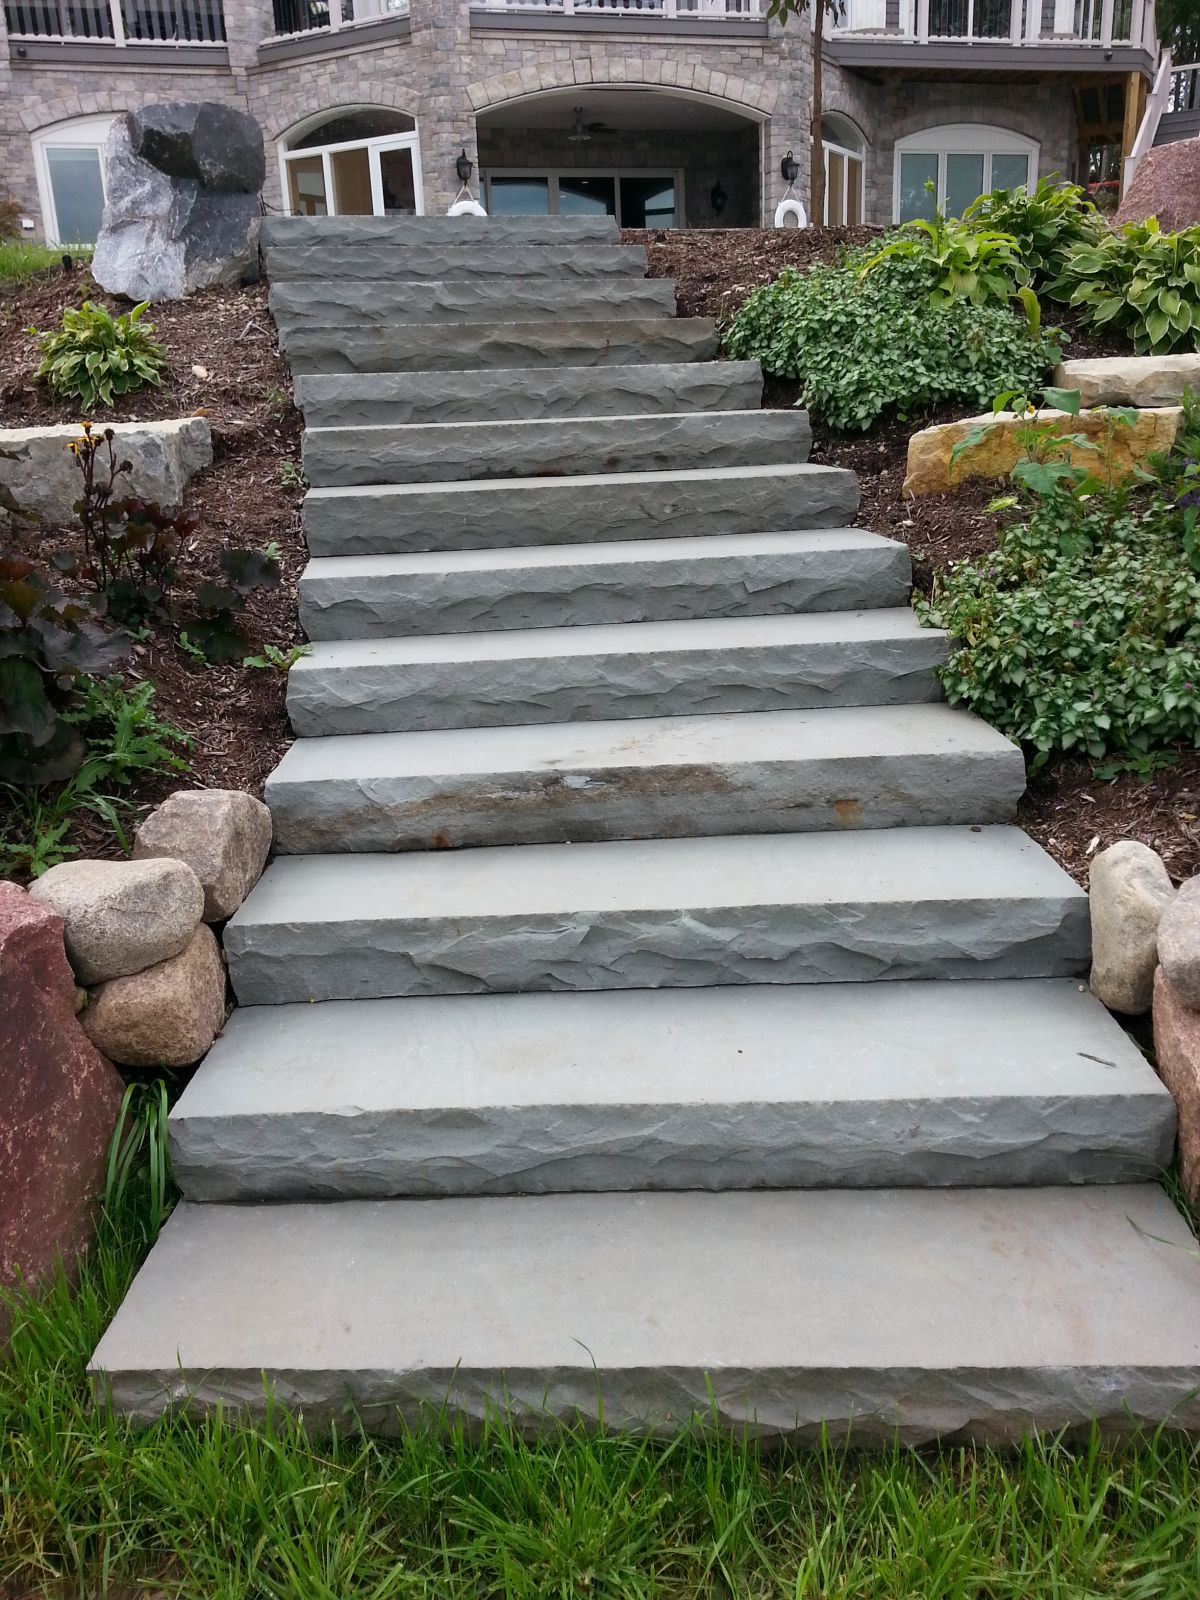upstairs: (279, 721, 1032, 1490)
